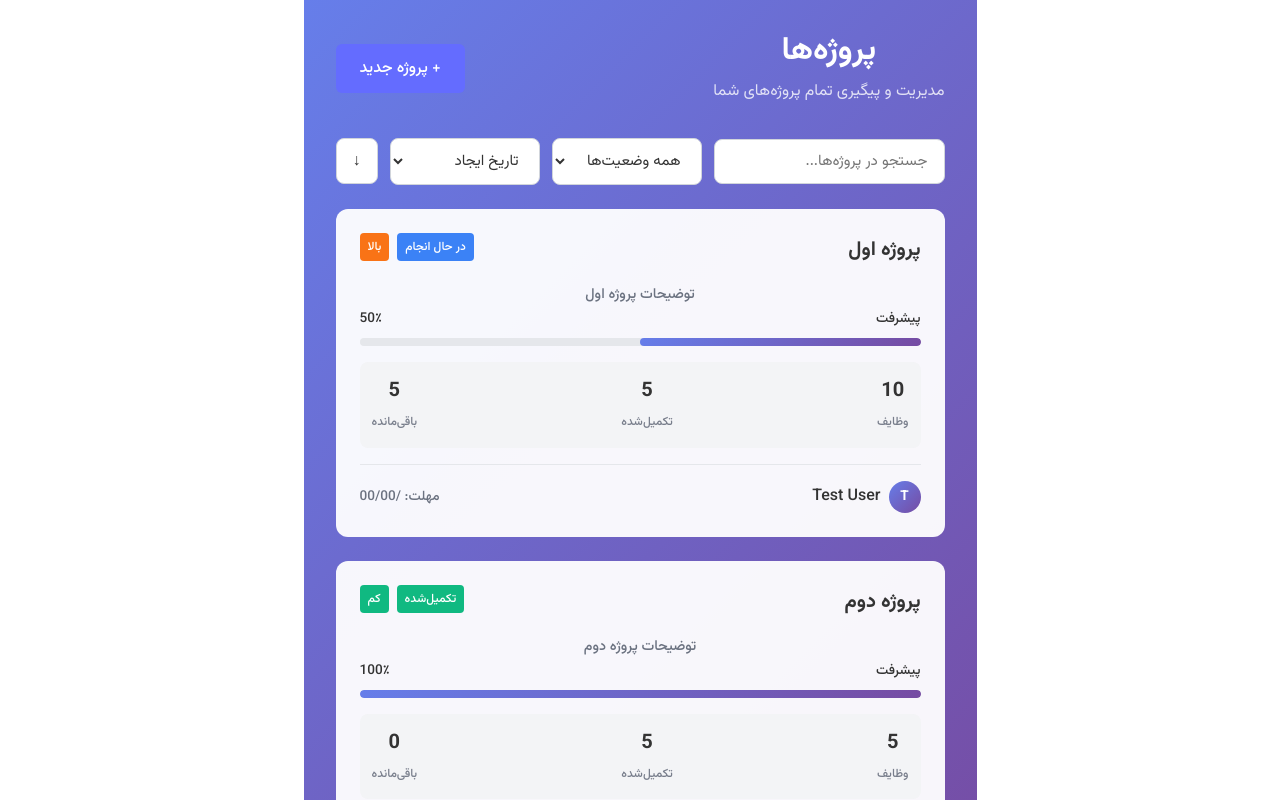
it: ProjectsList › Create project modal › closes the modal when cancel button is clicked
Expected: the heading "پروژه اول" is shown, [848, 233, 920, 267]
Click the button "+ پروژه جدید".
click(400, 69)  # box [336, 44, 465, 93]
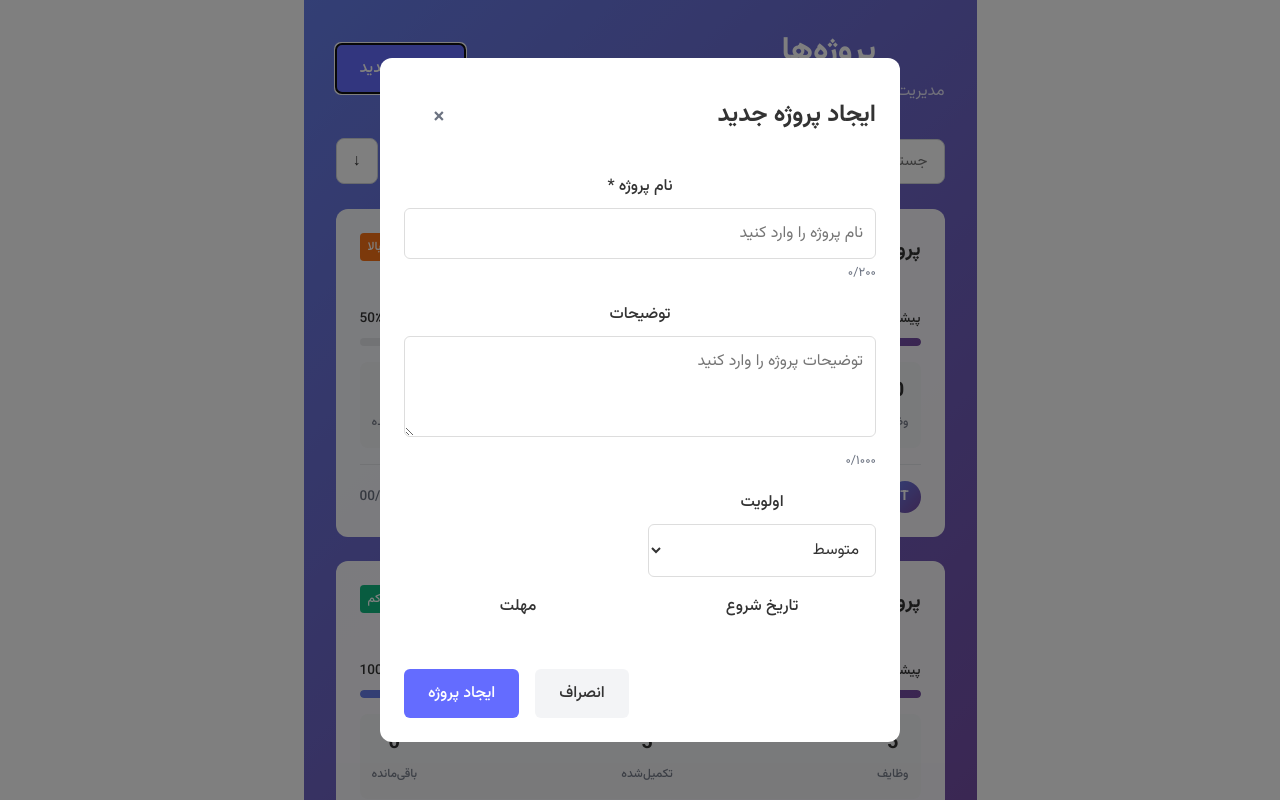
Expected: the heading "ایجاد پروژه جدید" is shown, [718, 95, 876, 136]
Click the button "انصراف".
click(582, 693)  # box [535, 669, 629, 718]
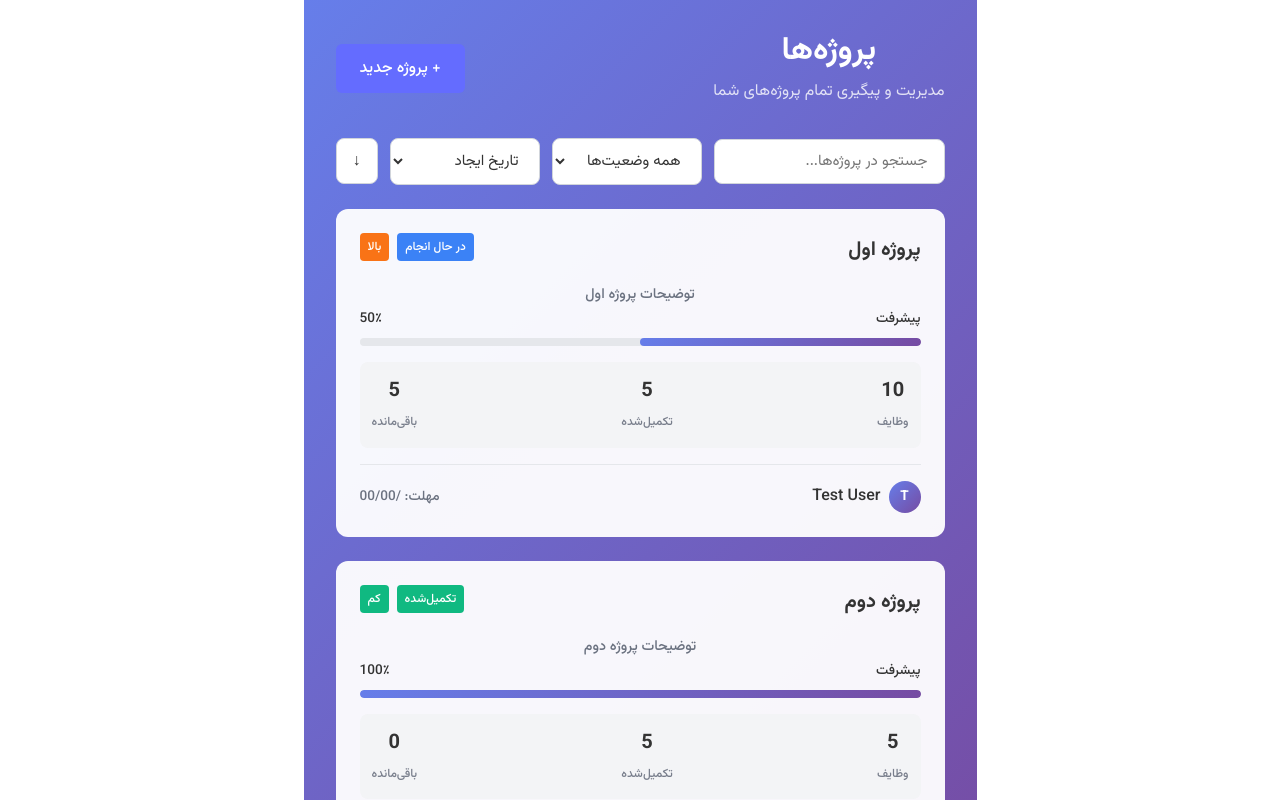
Expected: the heading "ایجاد پروژه جدید" is gone
